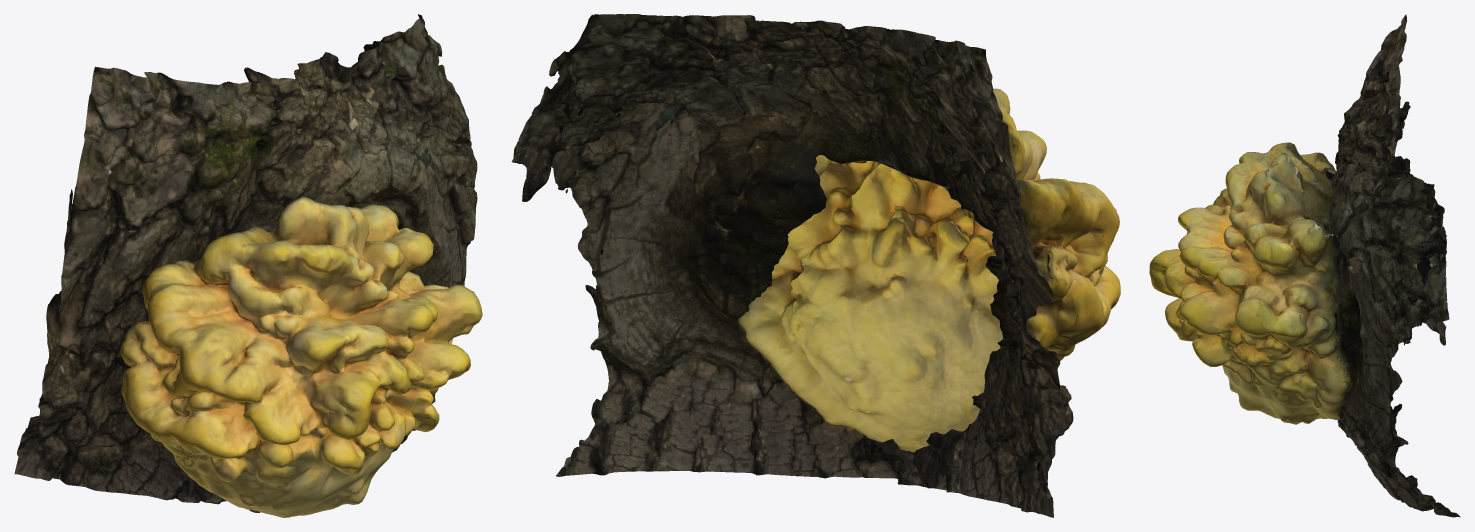
File: model-laetiporus-sulphureus-v0672.glb
The picture shows the model from 3 angles, left to right: view 1: azimuth 30°, elevation 25°; view 2: azimuth 150°, elevation 25°; view 3: azimuth 270°, elevation 25°; orthographic projection. The views are drawn at different scales.
Visible parts, largest first — view 1: Model; view 2: Model; view 3: Model.
Part boxes in pixels (box(x1,y1,x2,y2)): Model: box(14, 14, 482, 517); Model: box(511, 14, 1120, 517); Model: box(1149, 14, 1460, 517).
Bounding box in the file's own units: 4 × 3.68 × 2.81.
Materials: 1 (1 with a texture image).
